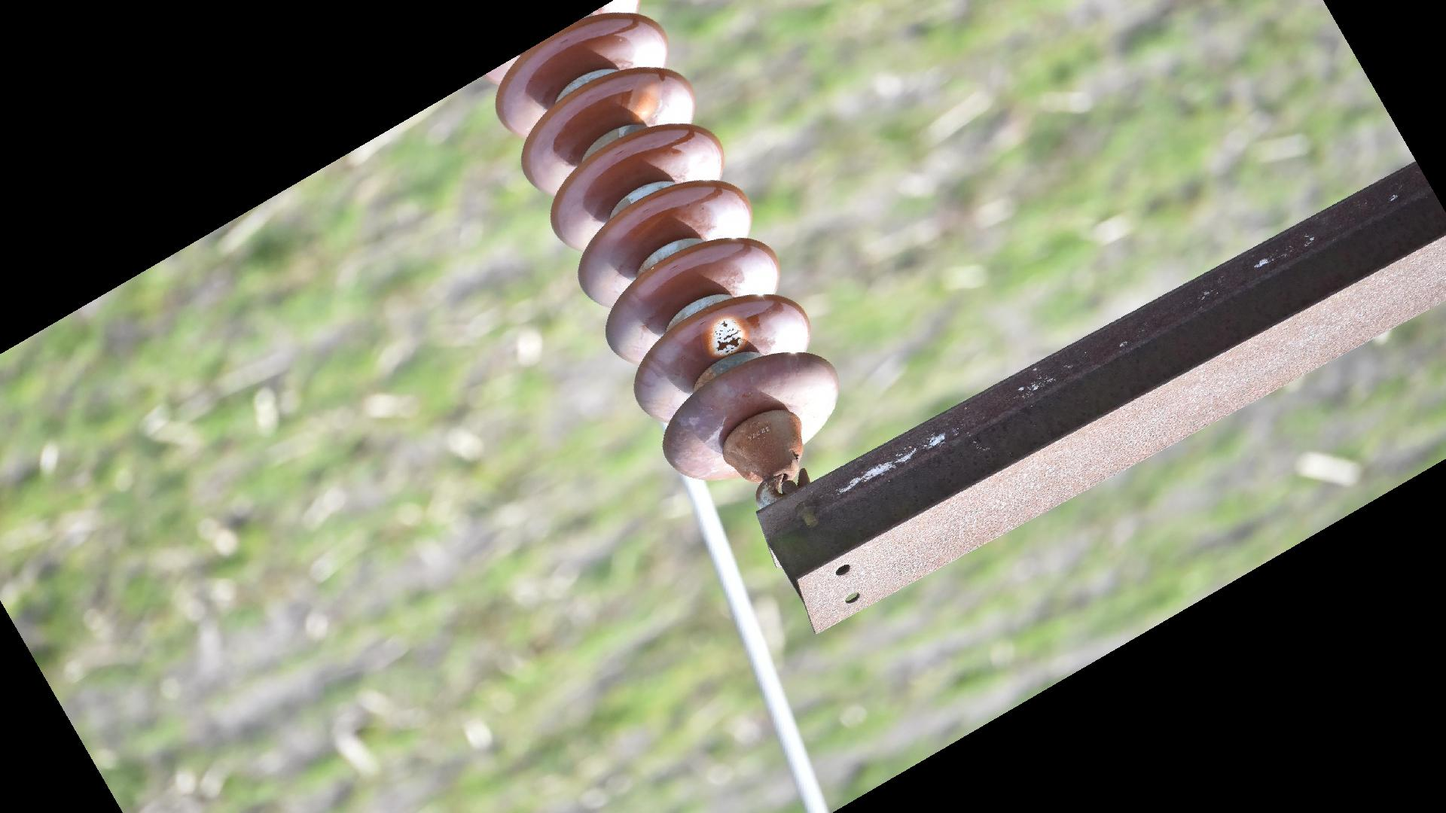insulator: (487, 1, 844, 489)
insulator_flashover: (624, 69, 666, 126), (705, 312, 749, 358)
